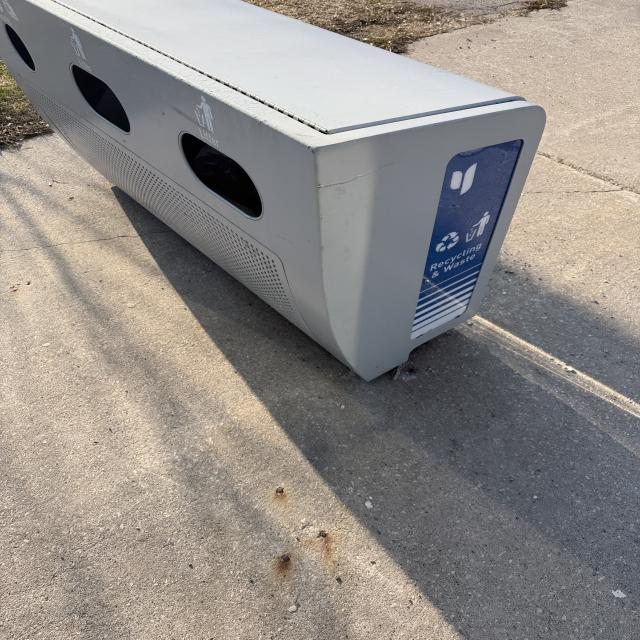Dustbin: (0, 0, 548, 385)
